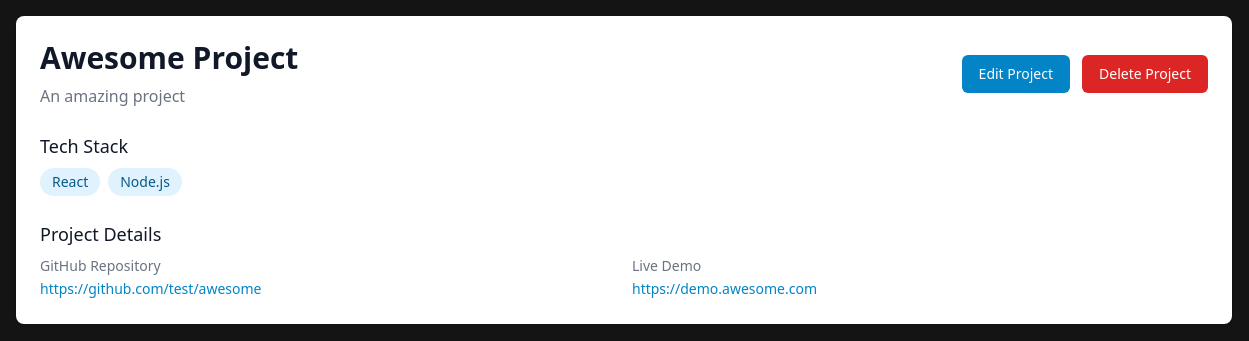
Test: ProjectDetail › shows error when delete fails
Click the button "Delete Project".
click(1145, 74)  # box [1082, 55, 1208, 93]
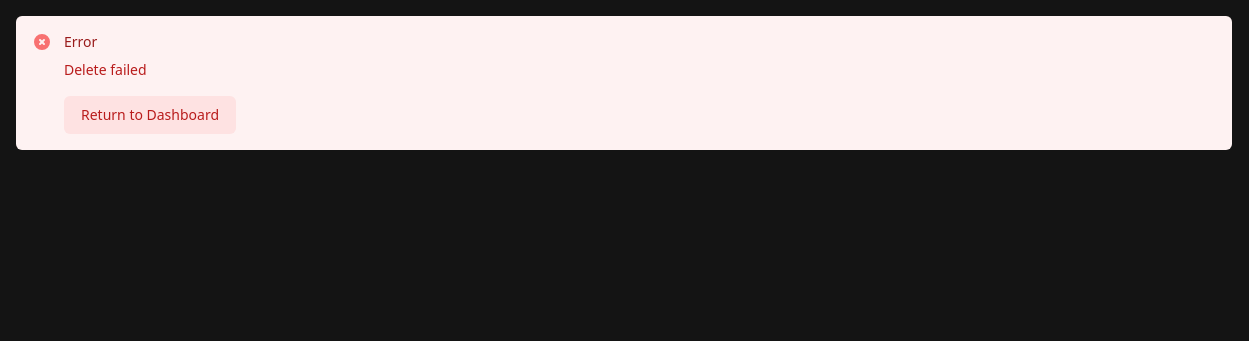
Result: the text "Delete failed" is shown at [64, 60, 147, 79]
